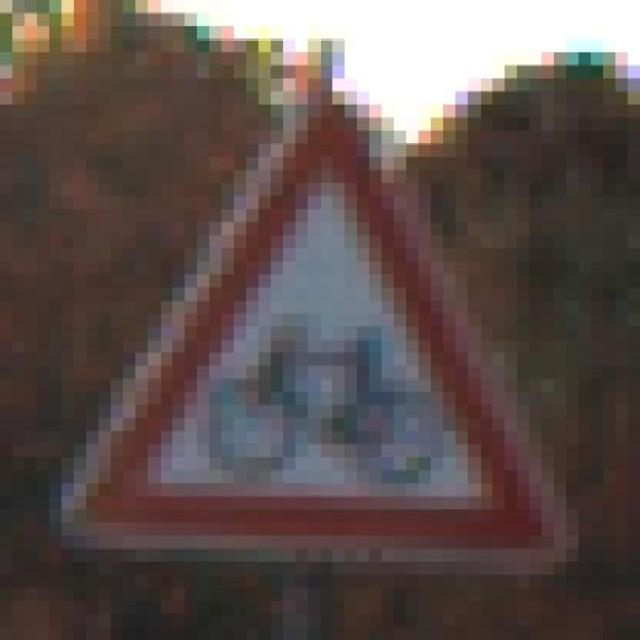CYCLE ROUTE AHEAD WARNING: (48, 63, 577, 572)
